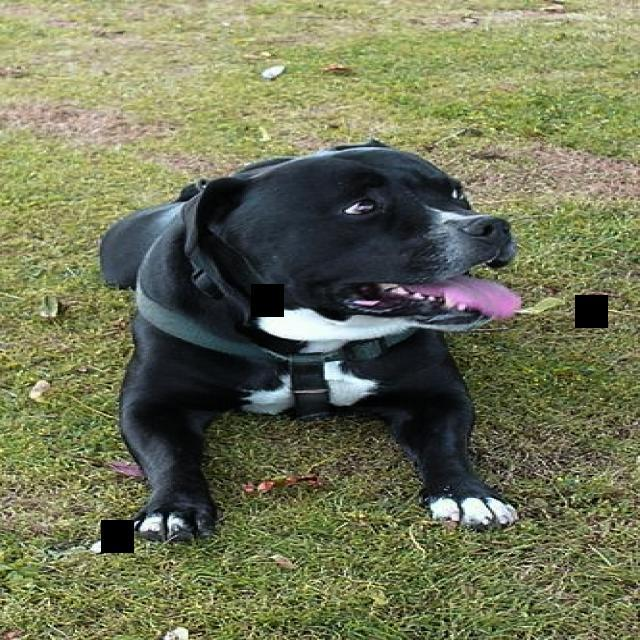adult_dog: (99, 143, 522, 541)
